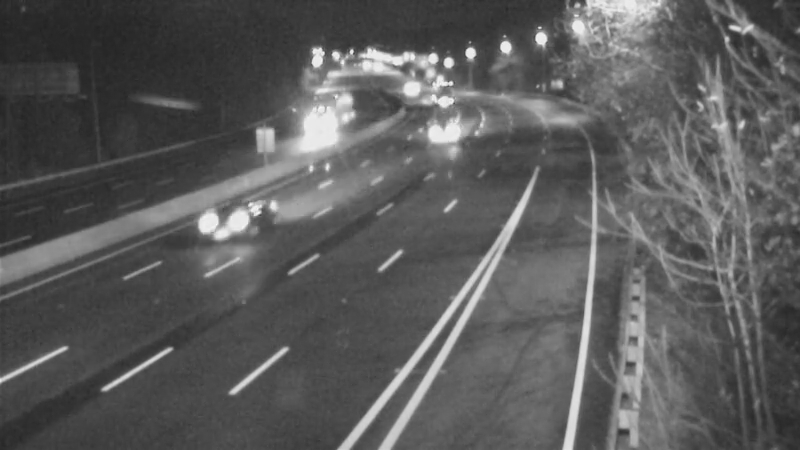vehicle: (181, 183, 261, 263), (383, 62, 433, 112), (413, 65, 463, 115), (417, 100, 467, 150), (292, 103, 342, 153)
